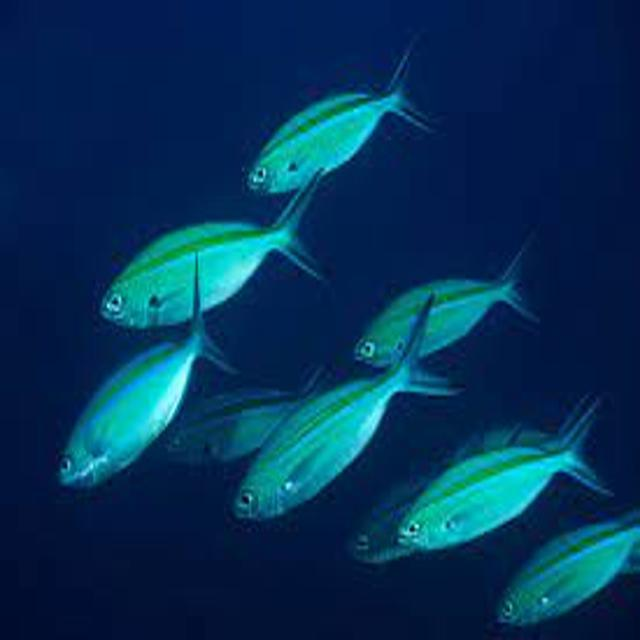fish: (236, 295, 459, 523), (56, 250, 239, 496), (98, 169, 330, 329), (400, 399, 618, 550), (246, 52, 441, 193), (349, 239, 542, 365), (494, 502, 639, 630), (163, 359, 329, 469), (349, 495, 411, 564)
